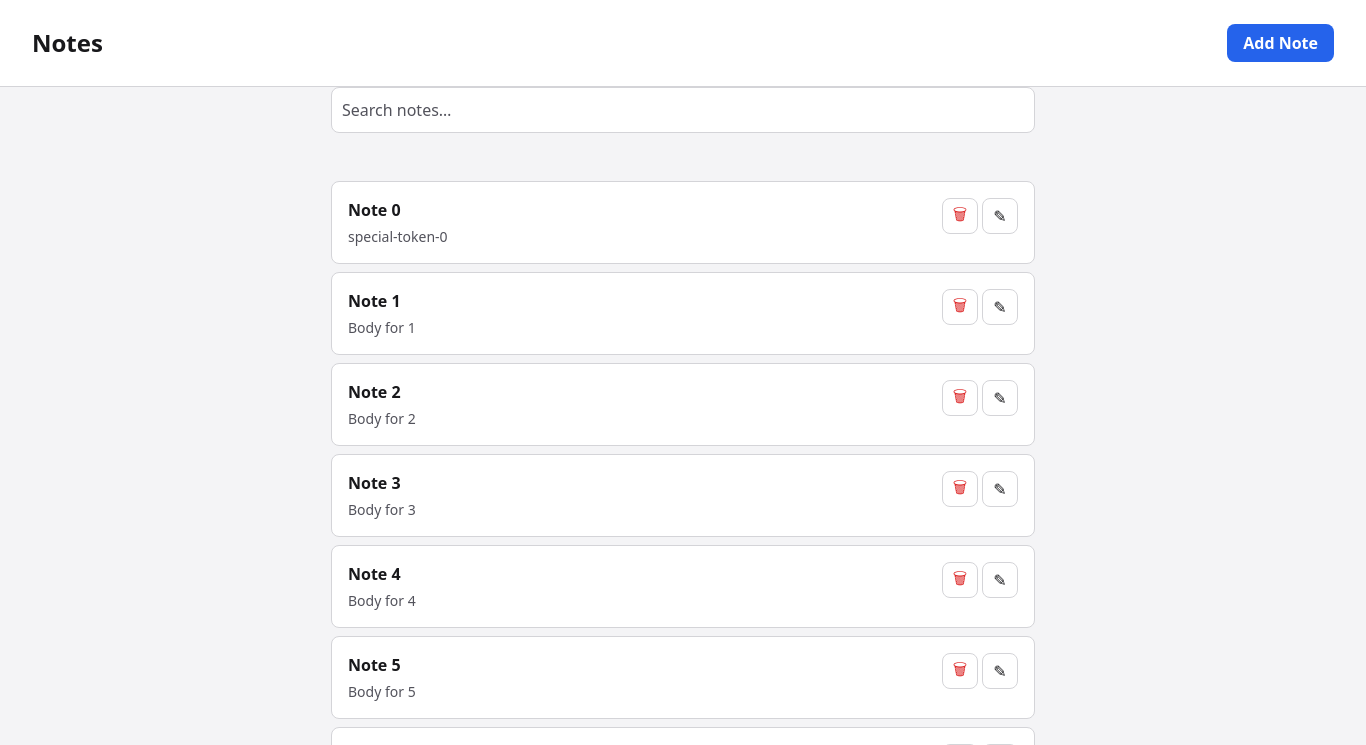
Test: Note search (debounced filter) › filters case-insensitively on title after debounce
In the search field labelled "Search notes": (663, 110) [340,98,986,122], type "NOTE 5"
Wait 300 ms
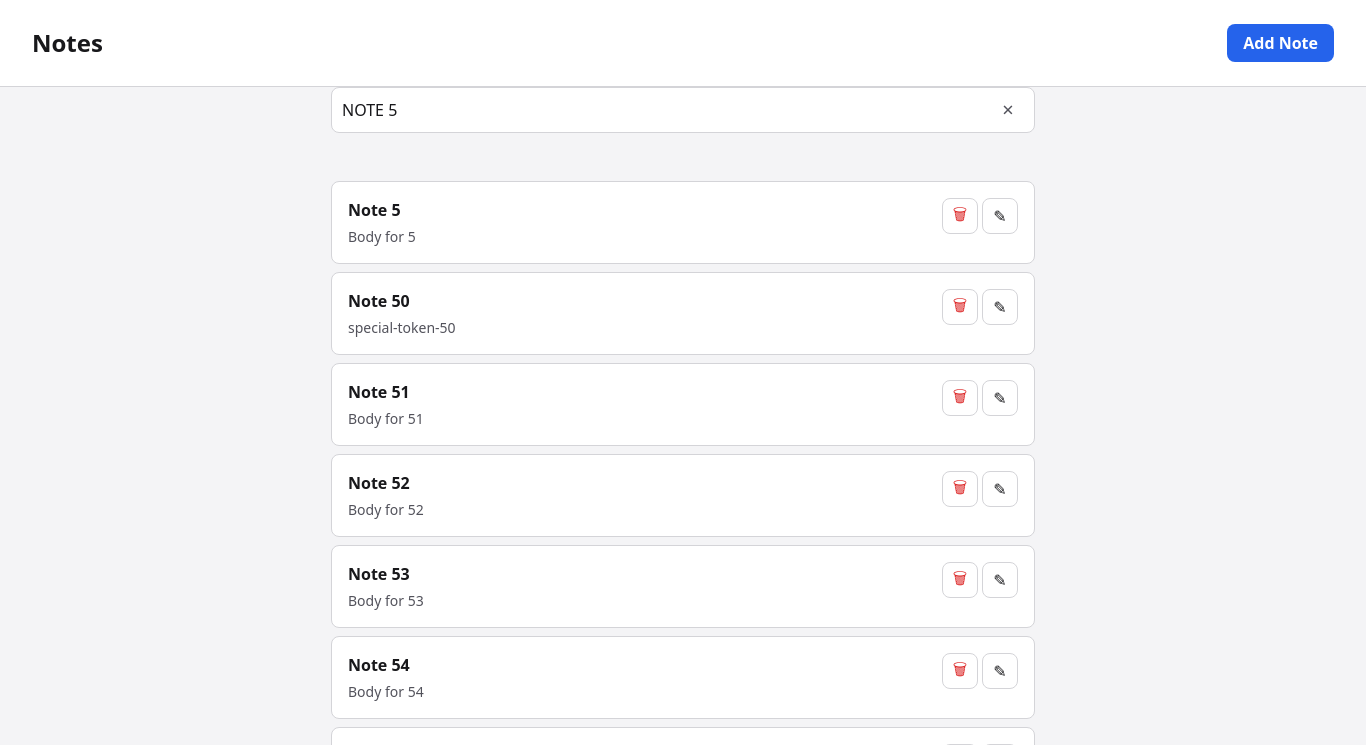
Check: the text "Note 5" is shown, box [348,199,401,221]
Check: the number of list items is 11
